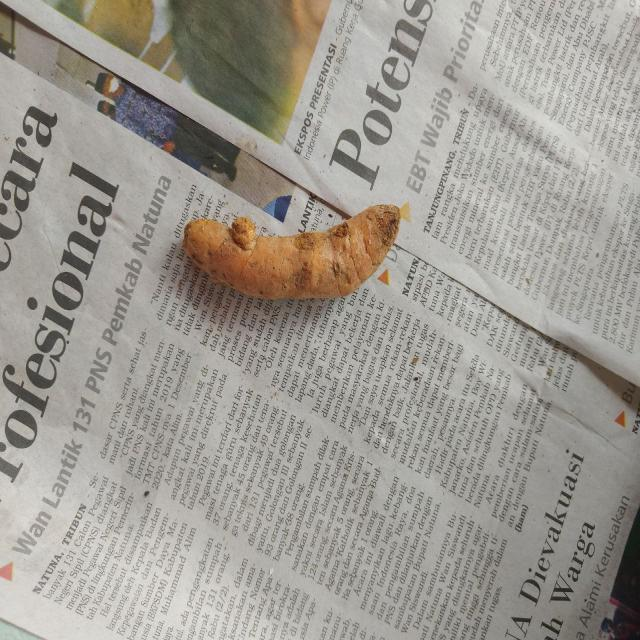ginger: (180, 196, 407, 310)
